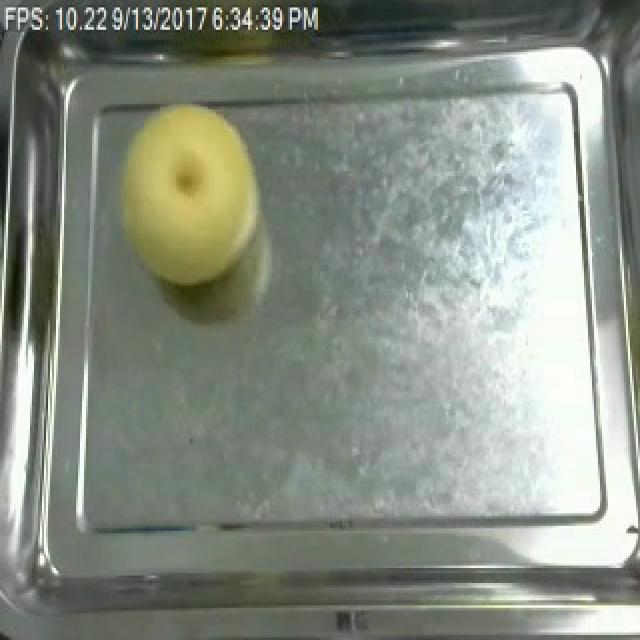Fruit: (104, 99, 274, 293)
